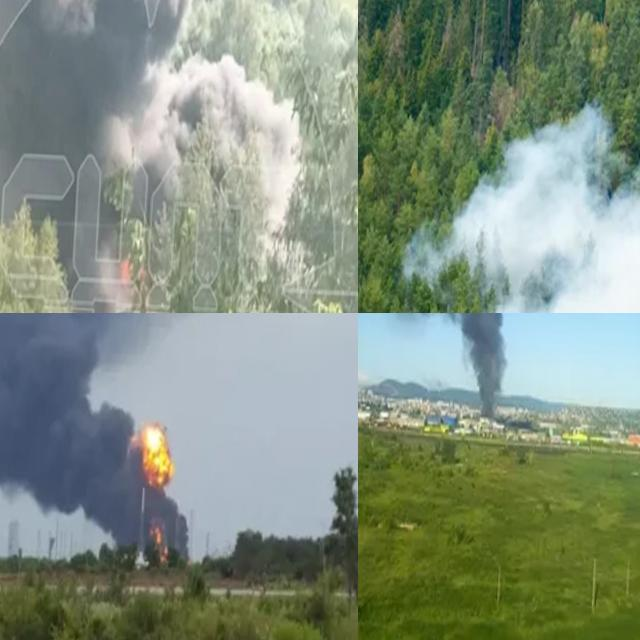smoke: (0, 0, 312, 313), (0, 313, 286, 567), (396, 95, 640, 313), (358, 313, 519, 419)
